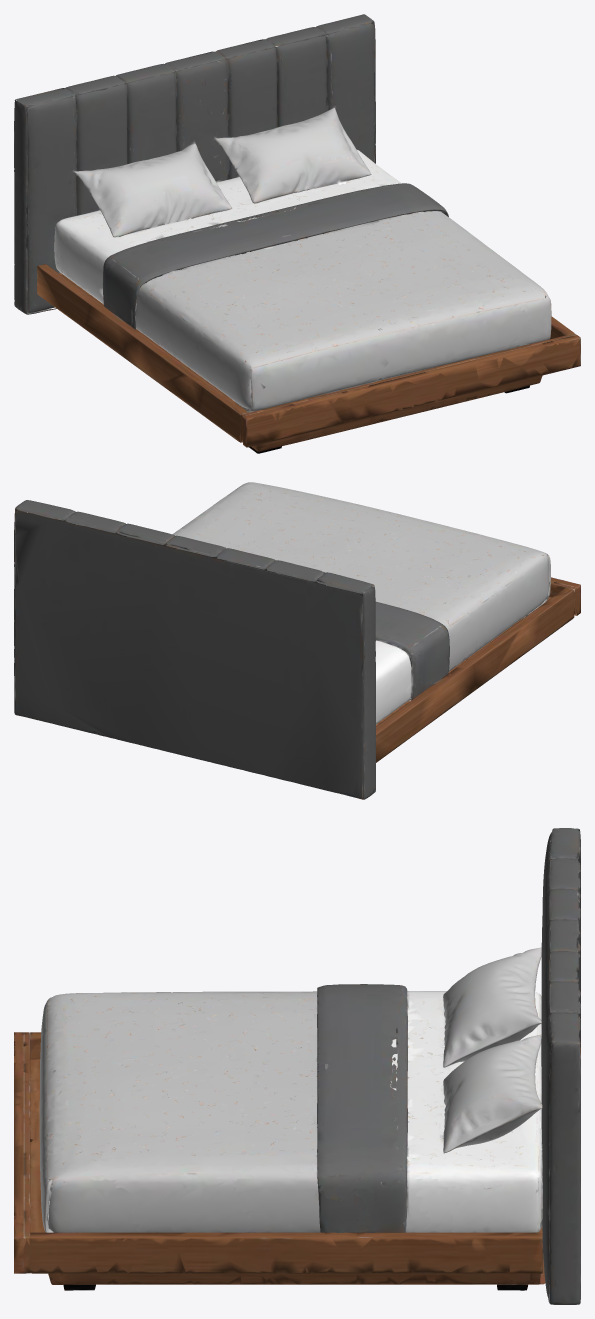
The model's file is queen_bed.glb.
3 views of the same model, one above another, from view 1: azimuth 30°, elevation 25°; view 2: azimuth 150°, elevation 25°; view 3: azimuth 270°, elevation 25° (orthographic). The views are drawn at different scales.
Visible parts, largest first — view 1: geometry_0; view 2: geometry_0; view 3: geometry_0.
Boxes of the visible parts, left/top/right/bottom form: geometry_0: left=14, top=14, right=580, bottom=453; geometry_0: left=14, top=482, right=580, bottom=799; geometry_0: left=14, top=828, right=580, bottom=1304.
Bounding box in the file's own units: 1.91 × 1.12 × 2.1.
Materials: 1 (1 with a texture image).
